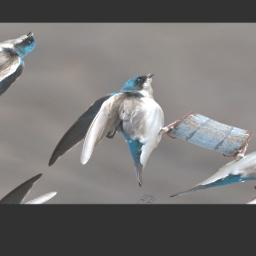Swallow: (33, 63, 230, 197)
